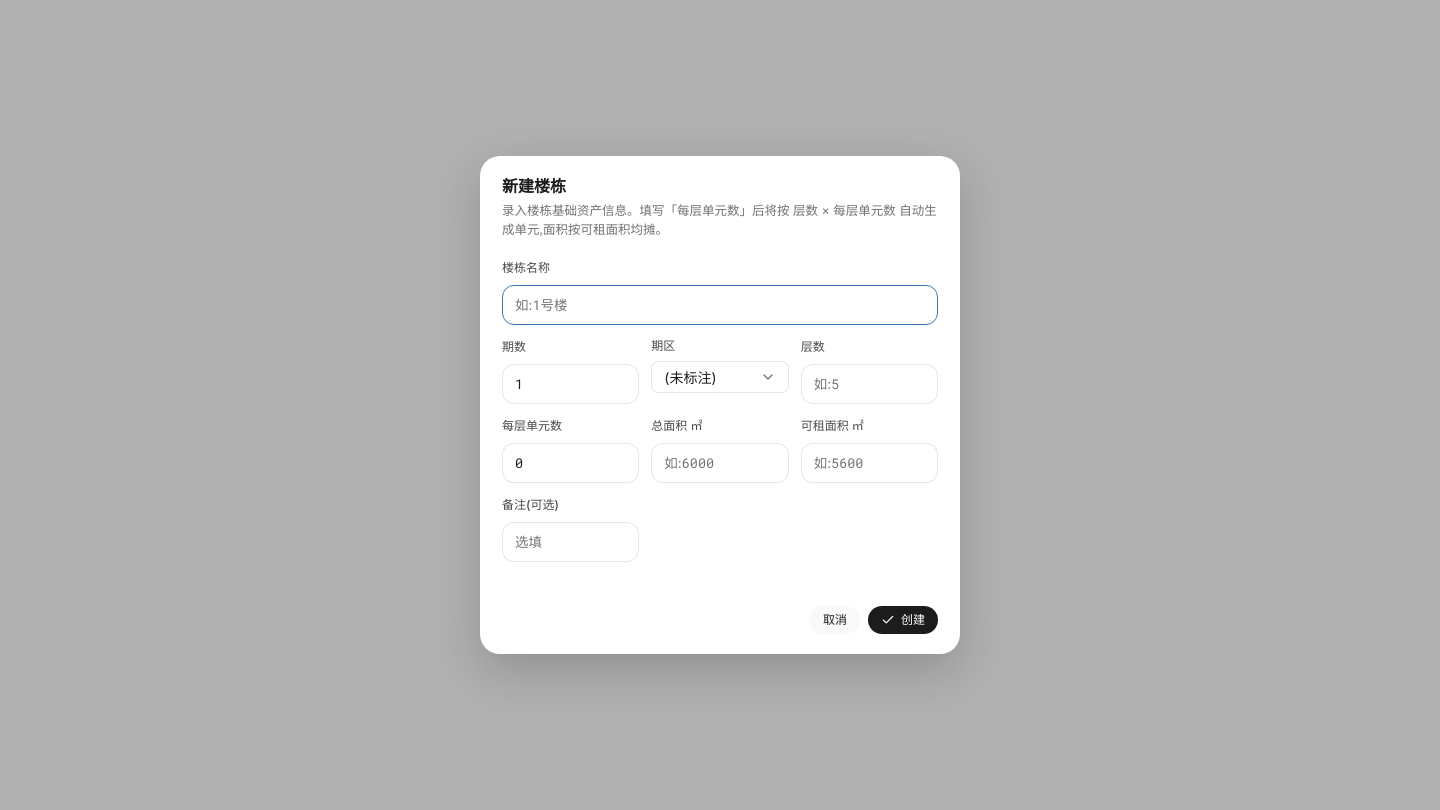
新建楼栋弹窗 › ❗名称空着提交 → 红字在 .fp-field-err,不上抛
This screenshot has width=1440, height=810.
Click the button "创建".
click(903, 620)  # box [868,606,938,634]
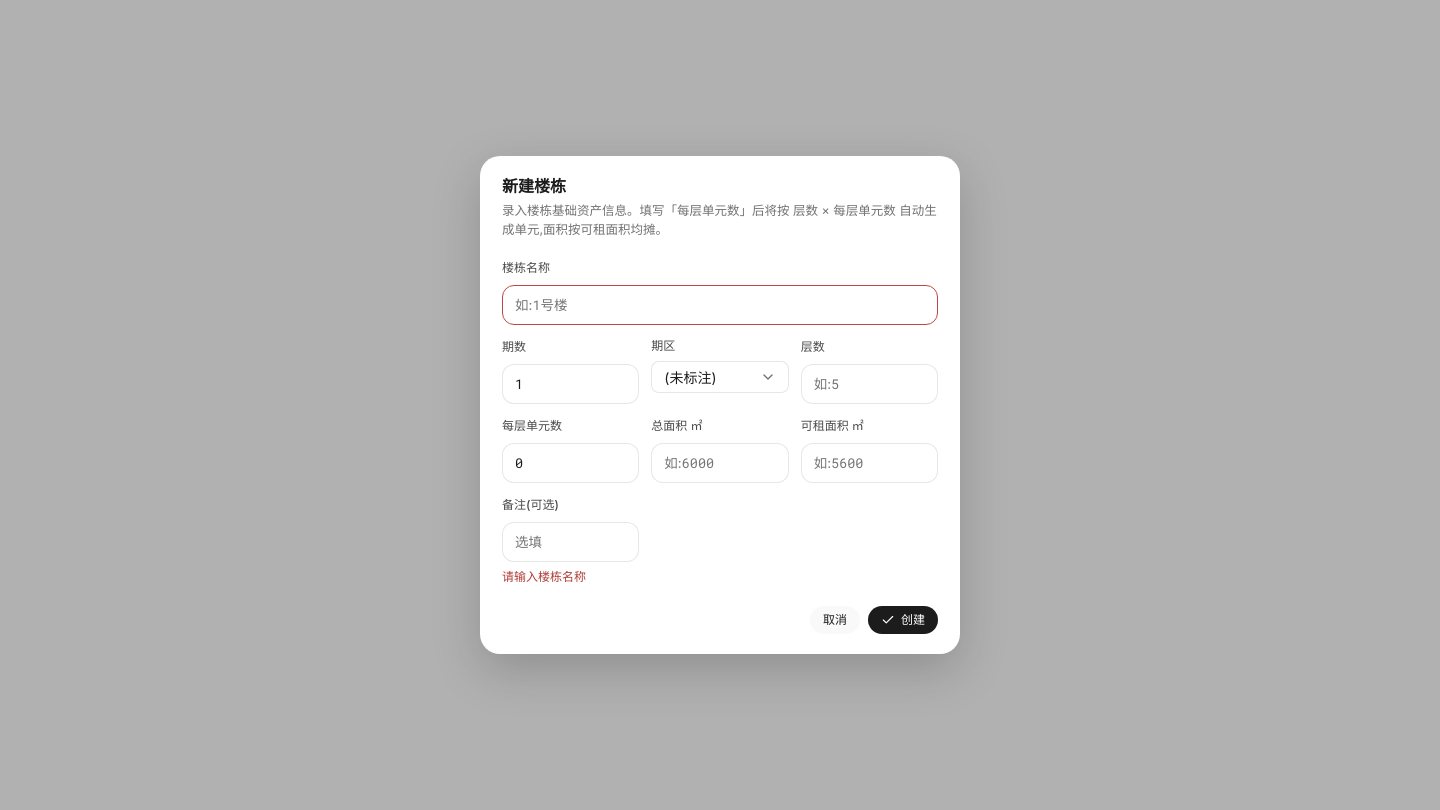
Expected: the text with class "fp-field-err" reads "请输入楼栋名称", [502,569,586,584]
